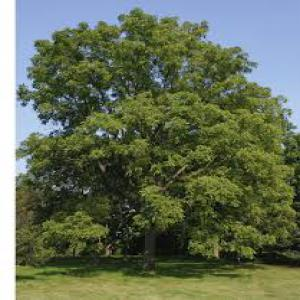Tree: (20, 7, 291, 274)
